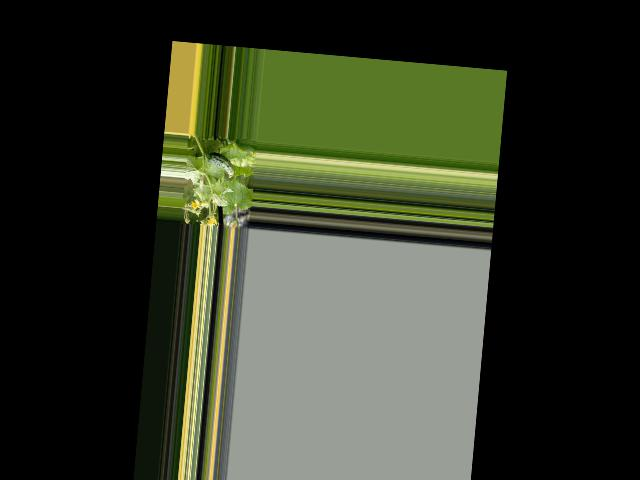cucumber: (205, 152, 235, 179)
